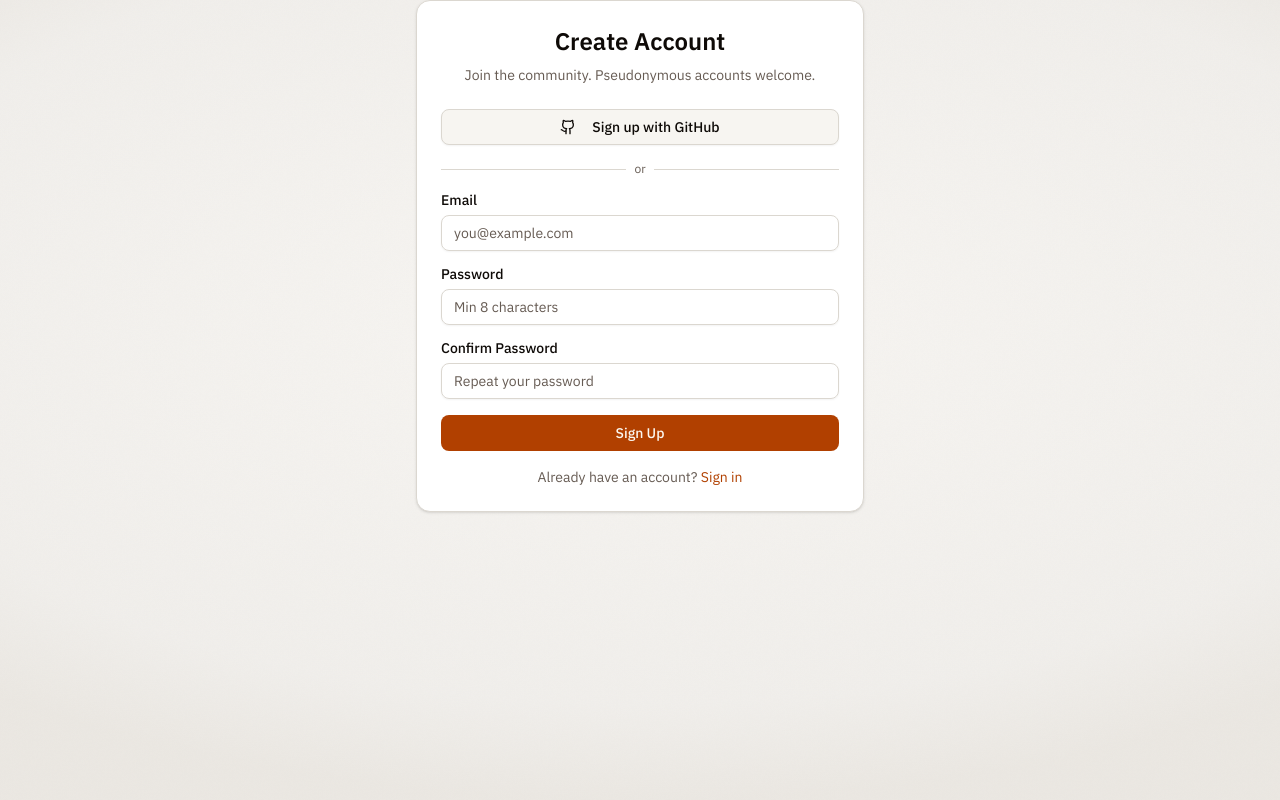
Scenario: RegisterForm › shows error when passwords do not match
Type "test@example.com" into the field labelled "Email" at (640, 233), box [441,215,839,251]
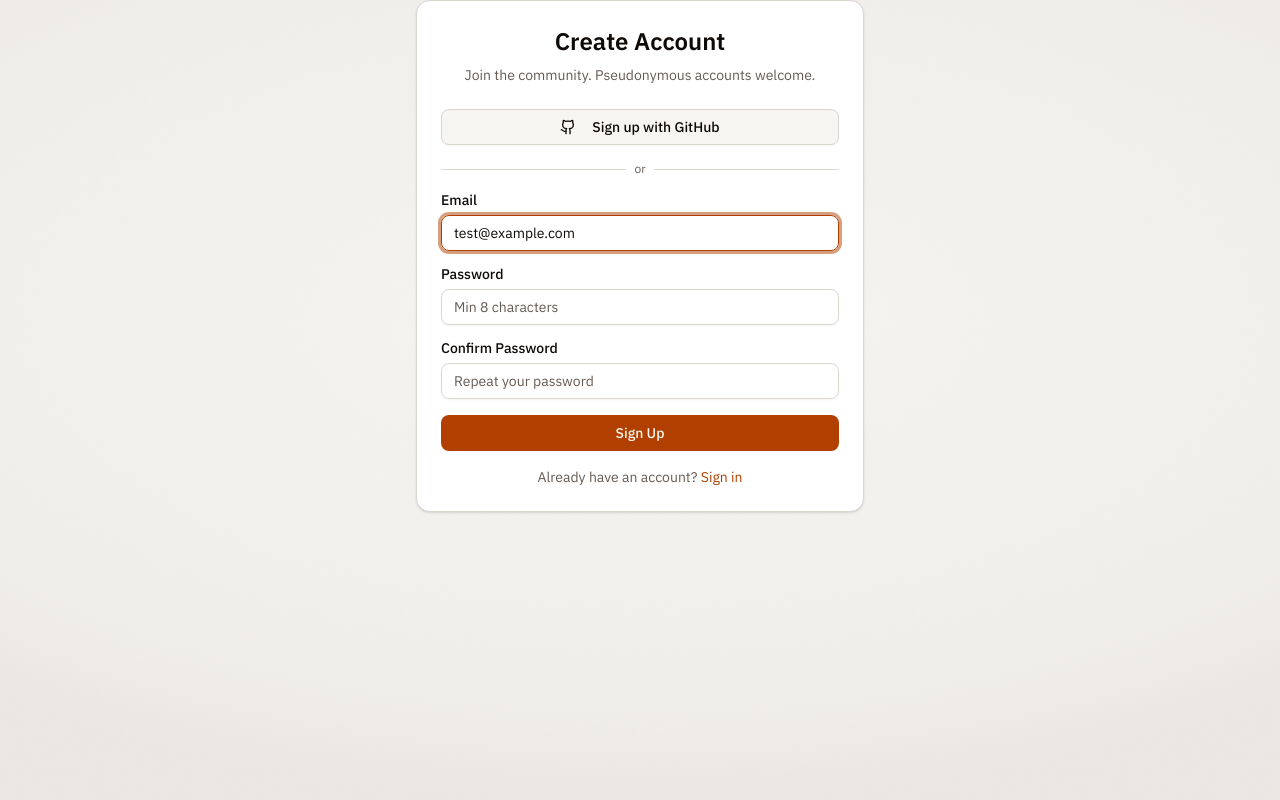
Type "password123" into the password field labelled "Password" at (640, 307), box [441,289,839,325]
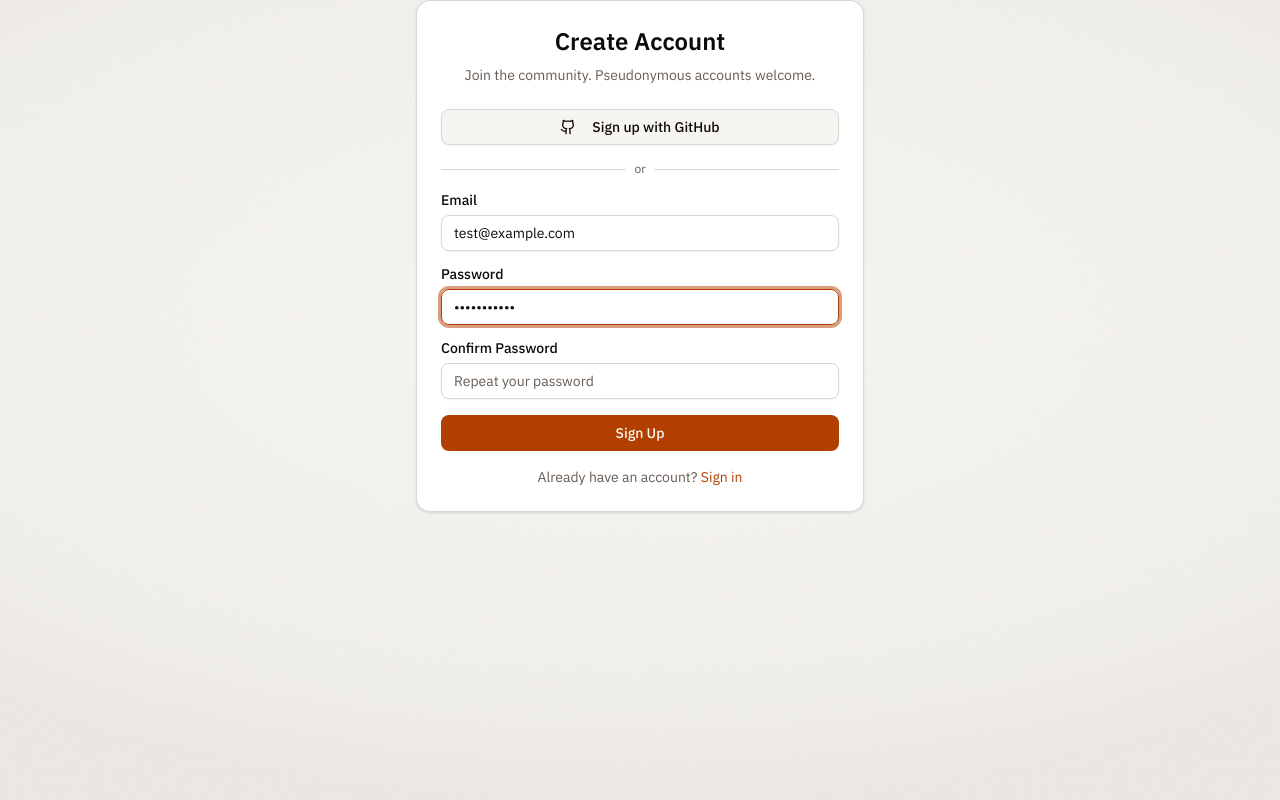
Type "different" into the password field labelled "Confirm Password" at (640, 381), box [441,363,839,399]
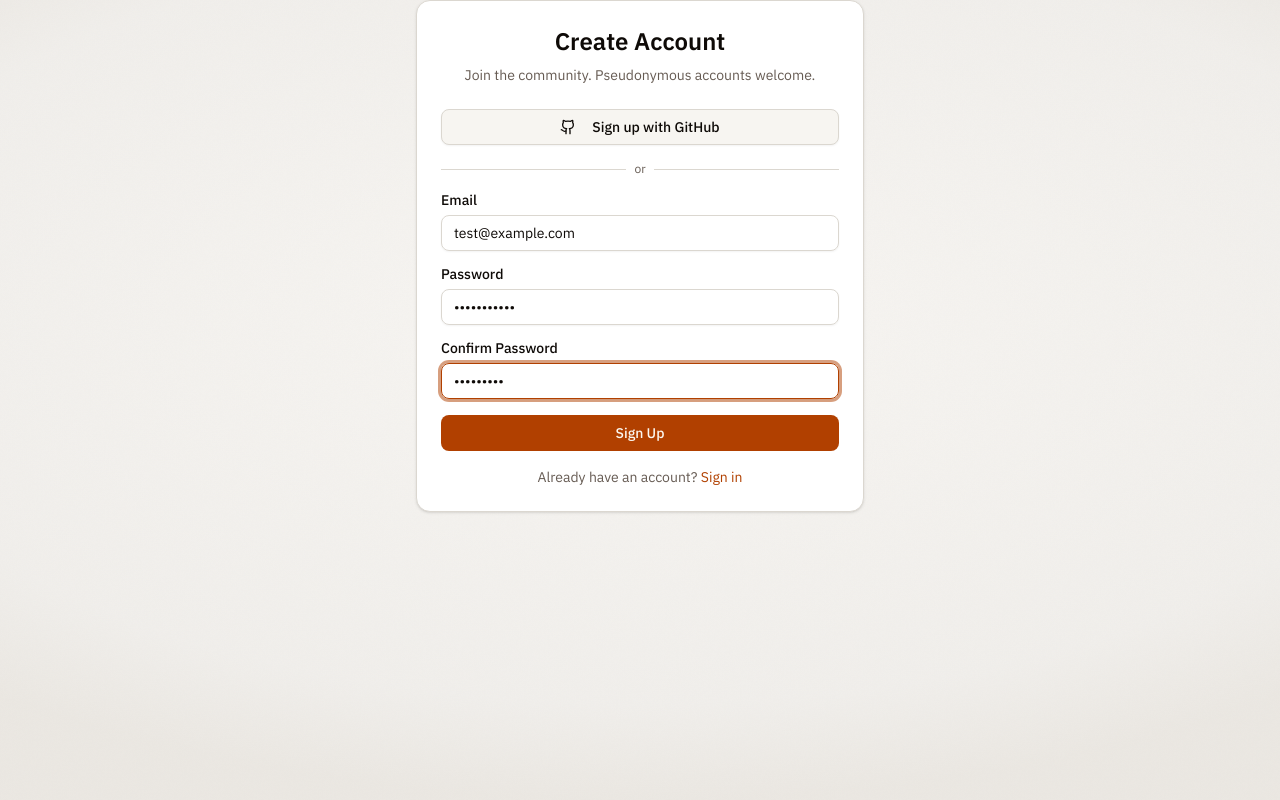
Click the button "Sign Up" at (640, 433), box [441,415,839,451]
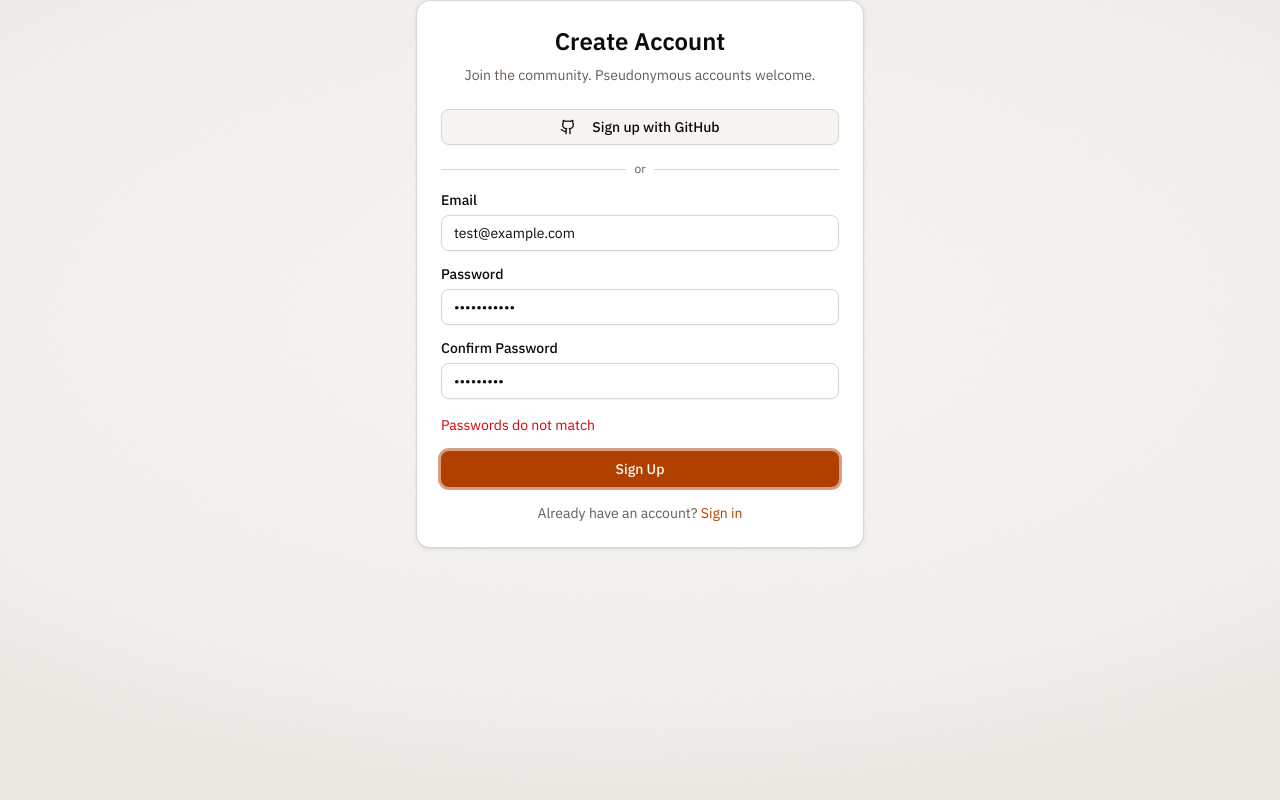
Result: the text "Passwords do not match" is shown at [441,416,595,434]
